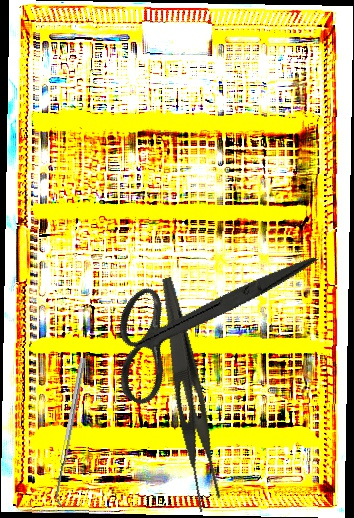Dressing Forceps: (134, 276, 235, 514)
Iris Scissors: (87, 189, 318, 446)
Spatula Surgical: (51, 357, 92, 508)
